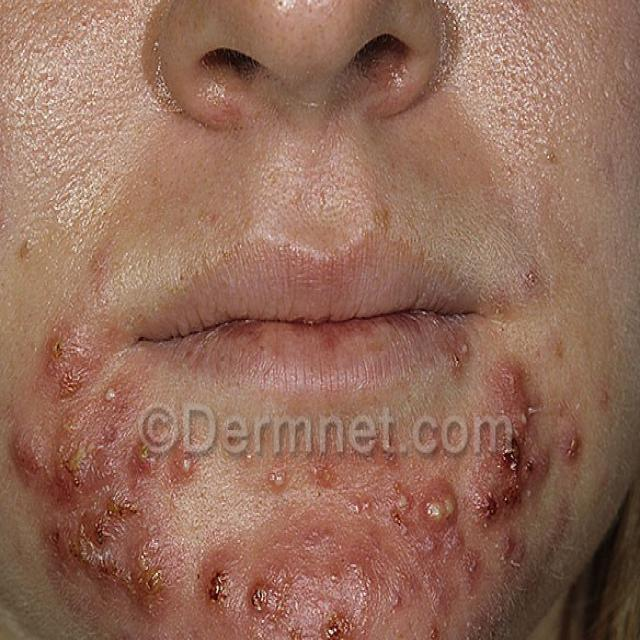Acne: (0, 320, 193, 640), (200, 413, 470, 640), (441, 353, 609, 588)
